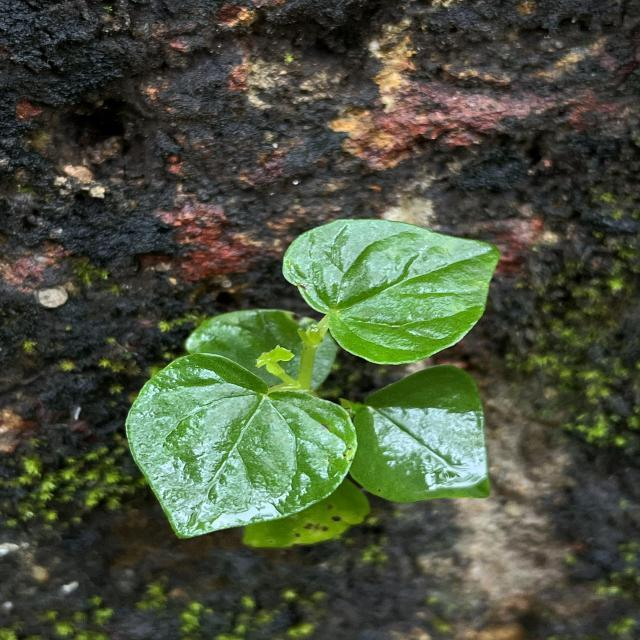Peperomia pellucida: (122, 352, 362, 542), (281, 217, 504, 367)
